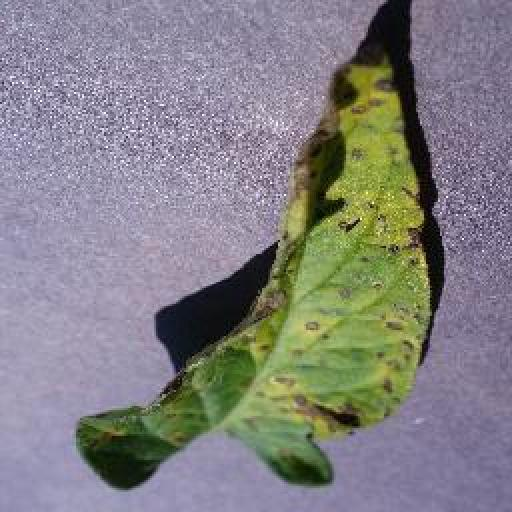Septoria: (75, 47, 438, 489)
